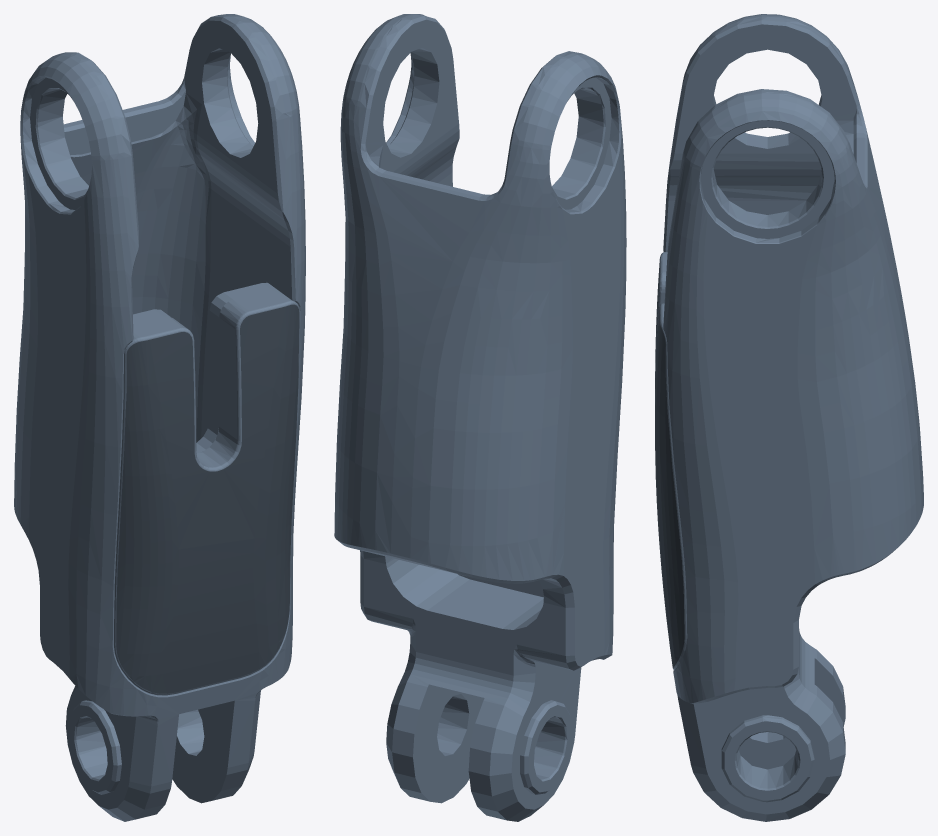
File: ring_proximal.glb
The picture shows the model from 3 angles, left to right: view 1: azimuth 30°, elevation 25°; view 2: azimuth 150°, elevation 25°; view 3: azimuth 270°, elevation 25°; orthographic projection. The views are drawn at different scales.
Parts seen in each view (by area): view 1: L_ring_prox; view 2: L_ring_prox; view 3: L_ring_prox.
Part boxes in pixels (x1=…): L_ring_prox: x1=14, y1=14, x2=305, y2=821; L_ring_prox: x1=334, y1=14, x2=626, y2=821; L_ring_prox: x1=655, y1=14, x2=923, y2=821.
Size of the model in its own units: 0.0154 by 0.0525 by 0.0172.
